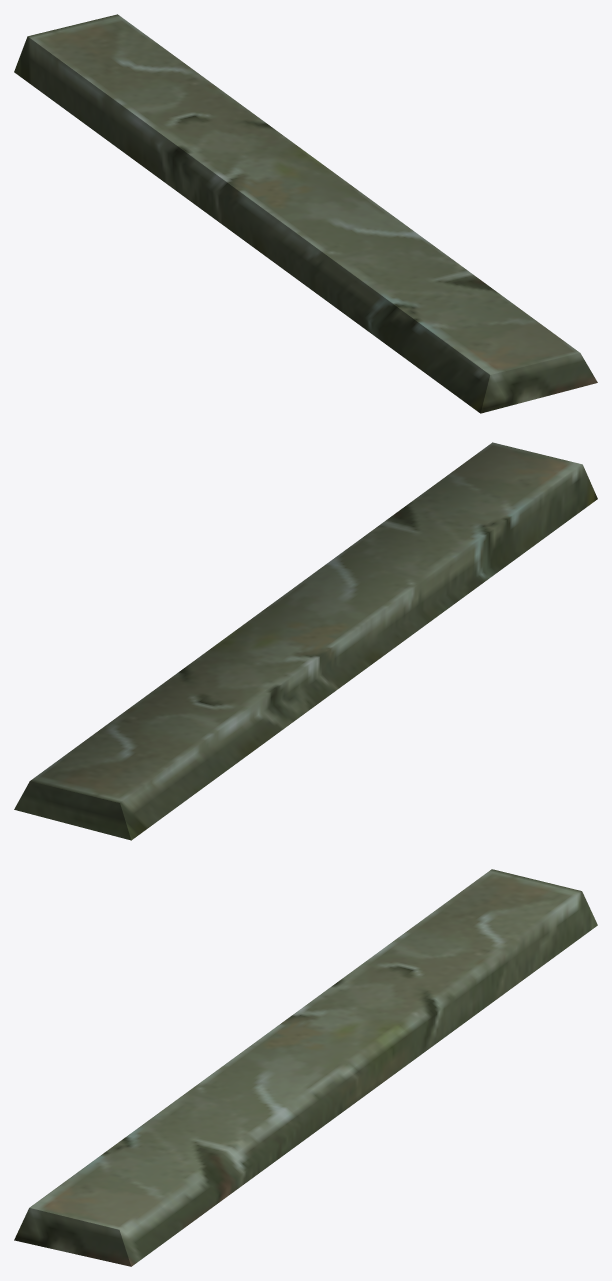
Rendered from fb_xsc_zj_04_c.FBX.
3 views of the same model, one above another, from view 1: azimuth 30°, elevation 25°; view 2: azimuth 150°, elevation 25°; view 3: azimuth 330°, elevation 25° (orthographic).
Visible parts, largest first — view 1: Object001; view 2: Object001; view 3: Object001.
Part boxes in pixels (<box>): Object001: <box>14,14,597,413</box>; Object001: <box>14,442,597,840</box>; Object001: <box>14,869,597,1266</box>.
Bounding box in the file's own units: 60.98 × 16.67 × 420.
